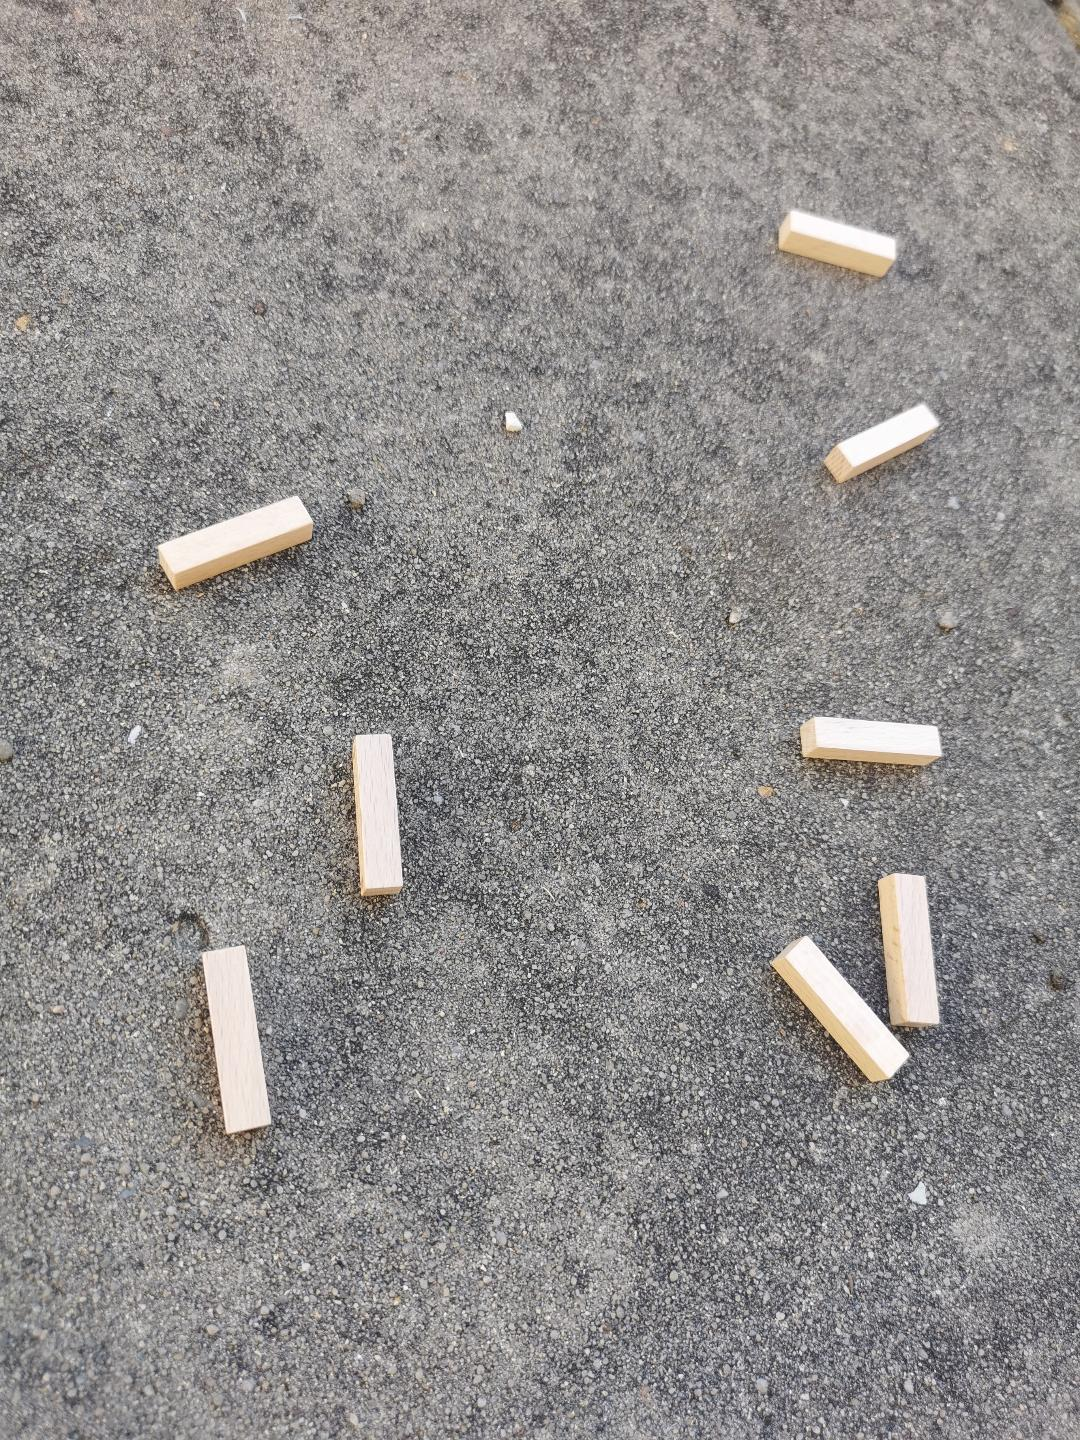jenga: (770, 937, 909, 1083), (158, 495, 312, 591), (202, 945, 270, 1134), (878, 874, 939, 1026), (824, 405, 939, 484), (352, 734, 403, 897), (779, 211, 897, 276), (802, 718, 943, 765)
